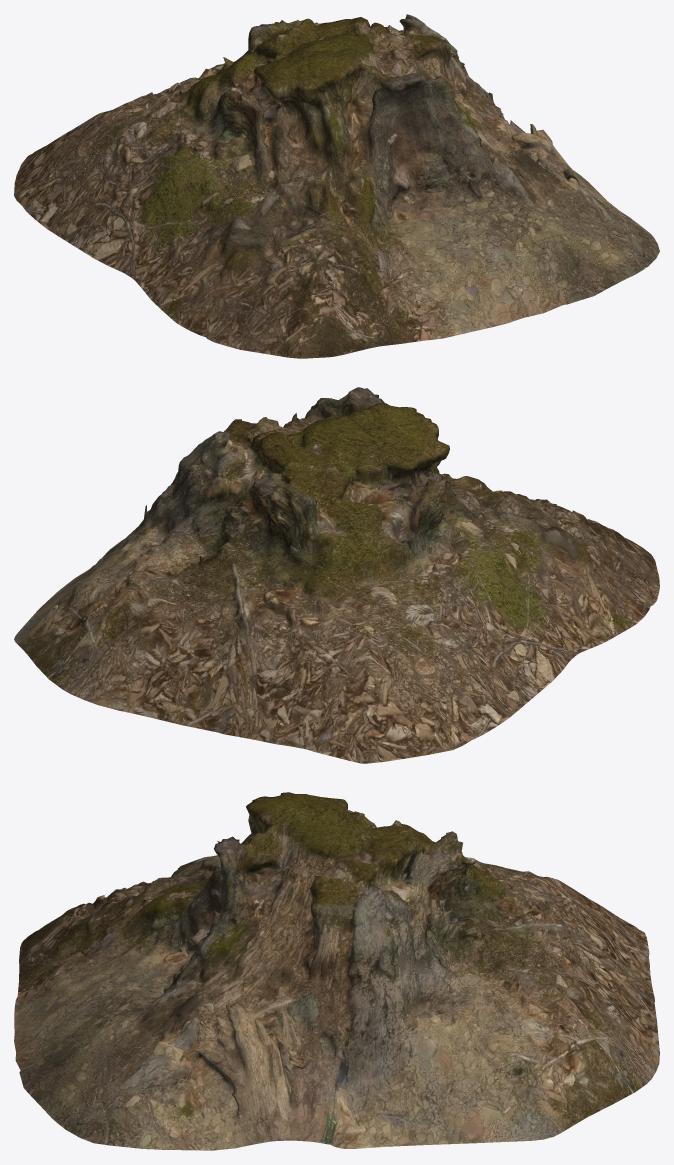
Rendered from tree_stump_01.glb.
3 views of the same model, one above another, from view 1: azimuth 30°, elevation 25°; view 2: azimuth 150°, elevation 25°; view 3: azimuth 270°, elevation 25° (orthographic). The views are drawn at different scales.
Parts seen in each view (by area): view 1: tree_stump_01; view 2: tree_stump_01; view 3: tree_stump_01.
Boxes of the visible parts, <box> form: tree_stump_01: <box>14,14,659,358</box>; tree_stump_01: <box>14,387,659,763</box>; tree_stump_01: <box>14,792,659,1150</box>.
Size of the model in its own units: 1.43 by 0.5724 by 1.59.
1 material, 1 textured.
